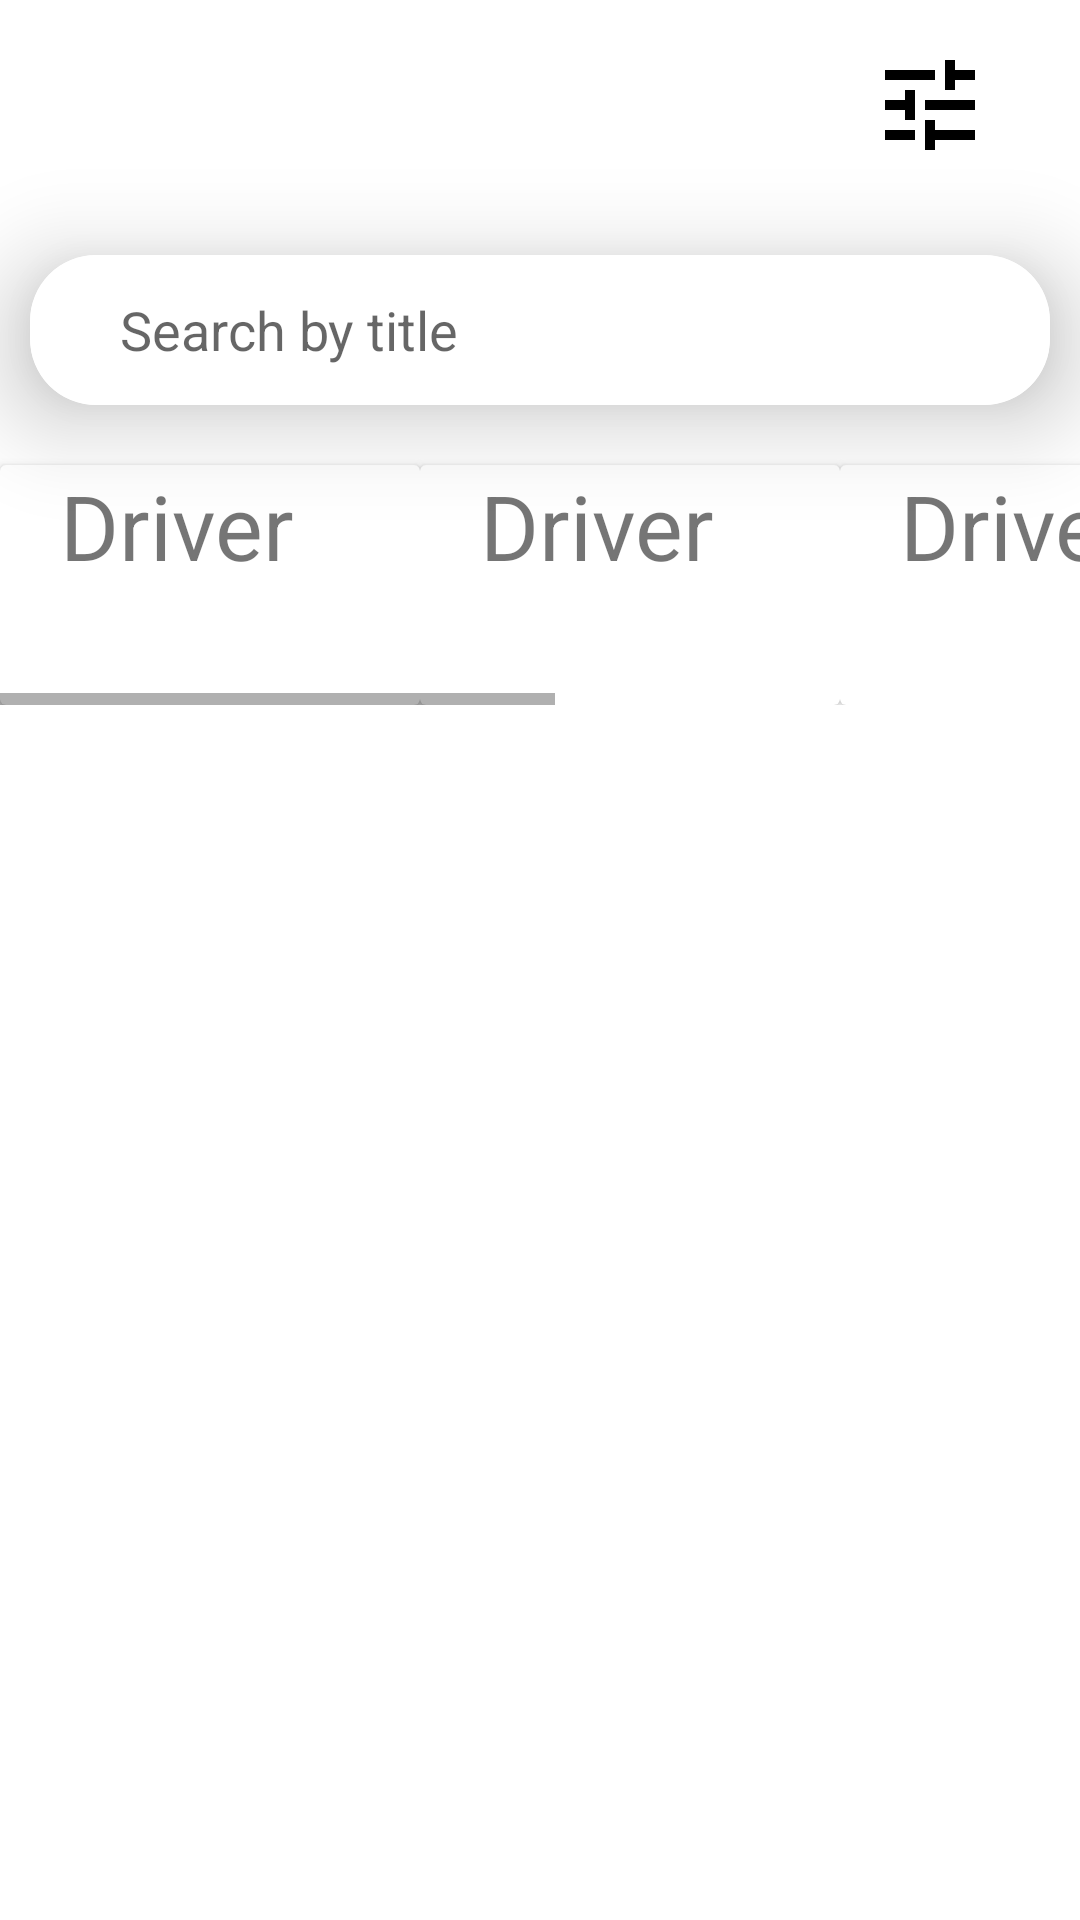

Named icons in this screenshot (1080*1920) and their centers, (x,y):
tune: (930,105)
